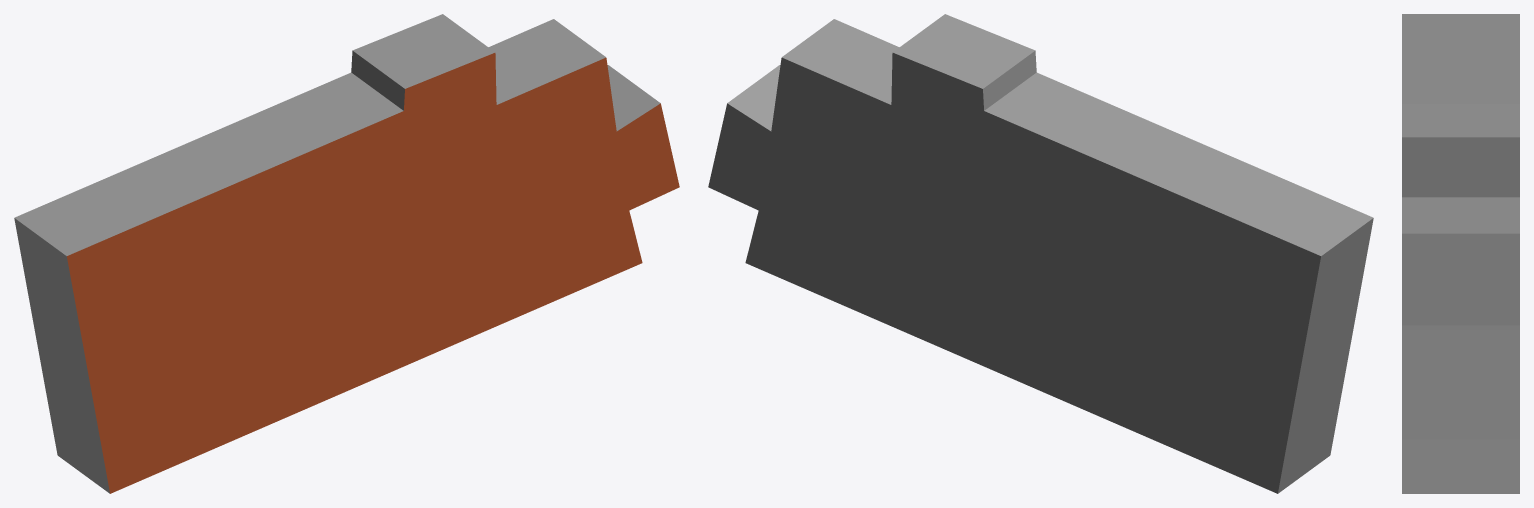
File: construction_5248_assumed_A_Casa_h6m.obj
The picture shows the model from 3 angles, left to right: view 1: azimuth 30°, elevation 25°; view 2: azimuth 150°, elevation 25°; view 3: azimuth 270°, elevation 25°; orthographic projection. The views are drawn at different scales.
Visible parts, largest first — view 1: construction_5248_assumed_A_Casa; view 2: construction_5248_assumed_A_Casa; view 3: construction_5248_assumed_A_Casa.
Part boxes in pixels (left/top/right/bottom): construction_5248_assumed_A_Casa: left=14, top=14, right=679, bottom=493; construction_5248_assumed_A_Casa: left=708, top=14, right=1373, bottom=493; construction_5248_assumed_A_Casa: left=1402, top=14, right=1519, bottom=493.
Size of the model in its own units: 40.37 by 21.87 by 6.
